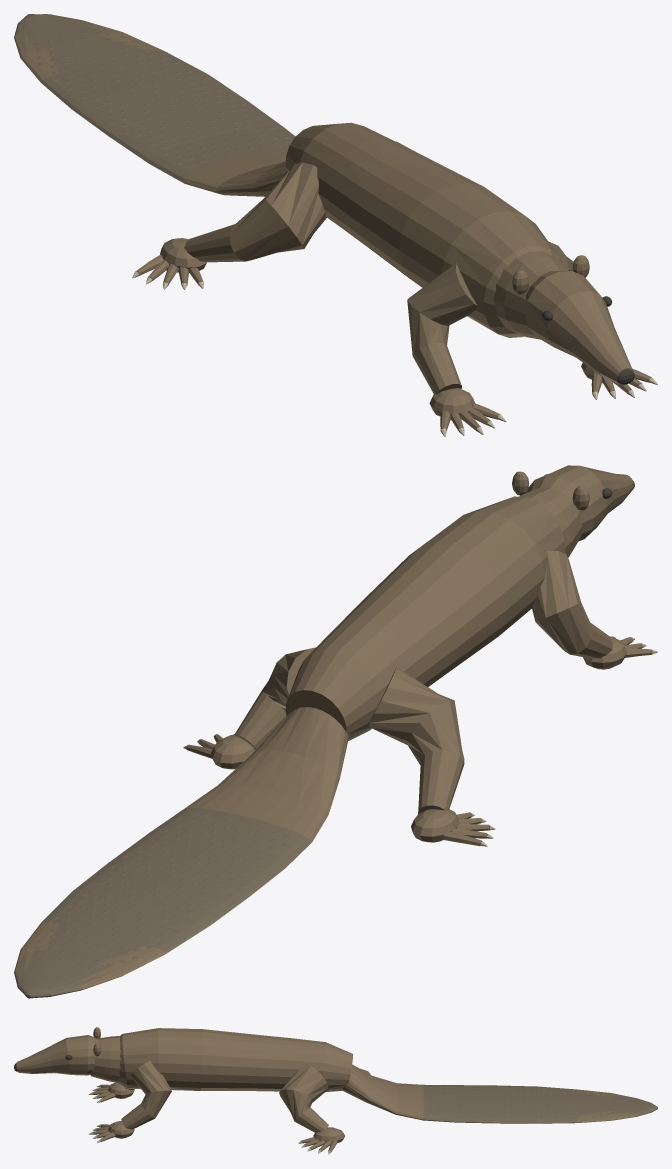
3 views of the same model, one above another, from view 1: azimuth 30°, elevation 25°; view 2: azimuth 150°, elevation 25°; view 3: azimuth 270°, elevation 25° (orthographic). The views are drawn at different scales.
Visible parts, largest first — view 1: Tail_broad_horizontal_paddle, Furred_trunk, Hindlimb_flexed_R, Head_pointed_mammaliaform, Forelimb_robust_R, Tail_fine_scale_field, Neck_low_continuous, Manus_pad_R, Pes_five_splayed_digits_R, Manus_five_separate_digits_R, Pes_pad_R; view 2: Tail_broad_horizontal_paddle, Furred_trunk, Hindlimb_flexed_R, Forelimb_robust_R, Tail_fine_scale_field, Head_pointed_mammaliaform, Hindlimb_flexed_L, Neck_low_continuous, Pes_pad_R, Pes_pad_L, Pes_five_splayed_digits_R; view 3: Furred_trunk, Tail_broad_horizontal_paddle, Head_pointed_mammaliaform, Hindlimb_flexed_L, Forelimb_robust_L, Tail_fine_scale_field, Neck_low_continuous, Pes_pad_L, Pes_five_splayed_digits_L, Manus_pad_L, Manus_pad_R, Manus_five_separate_digits_R (+1 smaller).
Part boxes in pixels (x1,y1,x2,y2): Tail_broad_horizontal_paddle: (14,14,295,196); Furred_trunk: (285,122,562,337); Hindlimb_flexed_R: (184,162,326,262); Head_pointed_mammaliaform: (524,271,633,385); Forelimb_robust_R: (407,263,477,394); Tail_fine_scale_field: (34,29,290,166); Neck_low_continuous: (493,251,567,339); Manus_pad_R: (429,388,474,420); Pes_five_splayed_digits_R: (136,254,203,285); Manus_five_separate_digits_R: (440,403,500,430); Pes_pad_R: (160,238,206,273); Tail_broad_horizontal_paddle: (14,707,348,998); Furred_trunk: (285,496,565,740); Hindlimb_flexed_R: (369,668,464,813); Forelimb_robust_R: (532,551,612,658); Tail_fine_scale_field: (34,813,290,970); Head_pointed_mammaliaform: (526,465,633,541); Hindlimb_flexed_L: (234,647,315,750); Neck_low_continuous: (519,487,582,557); Pes_pad_R: (411,809,459,842); Pes_pad_L: (211,734,255,769); Pes_five_splayed_digits_R: (441,812,489,846); Furred_trunk: (116,1028,352,1092); Tail_broad_horizontal_paddle: (342,1064,657,1123); Head_pointed_mammaliaform: (16,1035,97,1075); Hindlimb_flexed_L: (279,1064,328,1132); Forelimb_robust_L: (121,1061,171,1129); Tail_fine_scale_field: (430,1085,617,1118); Neck_low_continuous: (90,1036,120,1082); Pes_pad_L: (313,1127,344,1142); Pes_five_splayed_digits_L: (301,1137,337,1152); Manus_pad_L: (108,1121,134,1138); Manus_pad_R: (108,1082,134,1098); Manus_five_separate_digits_R: (93,1084,115,1101).
Size of the model in its own units: 0.1522 by 0.071 by 0.48.
